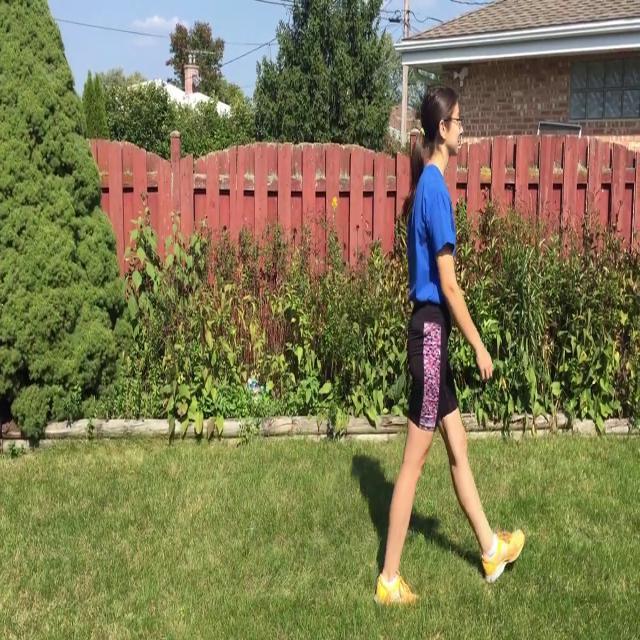normal: (373, 82, 529, 604)
